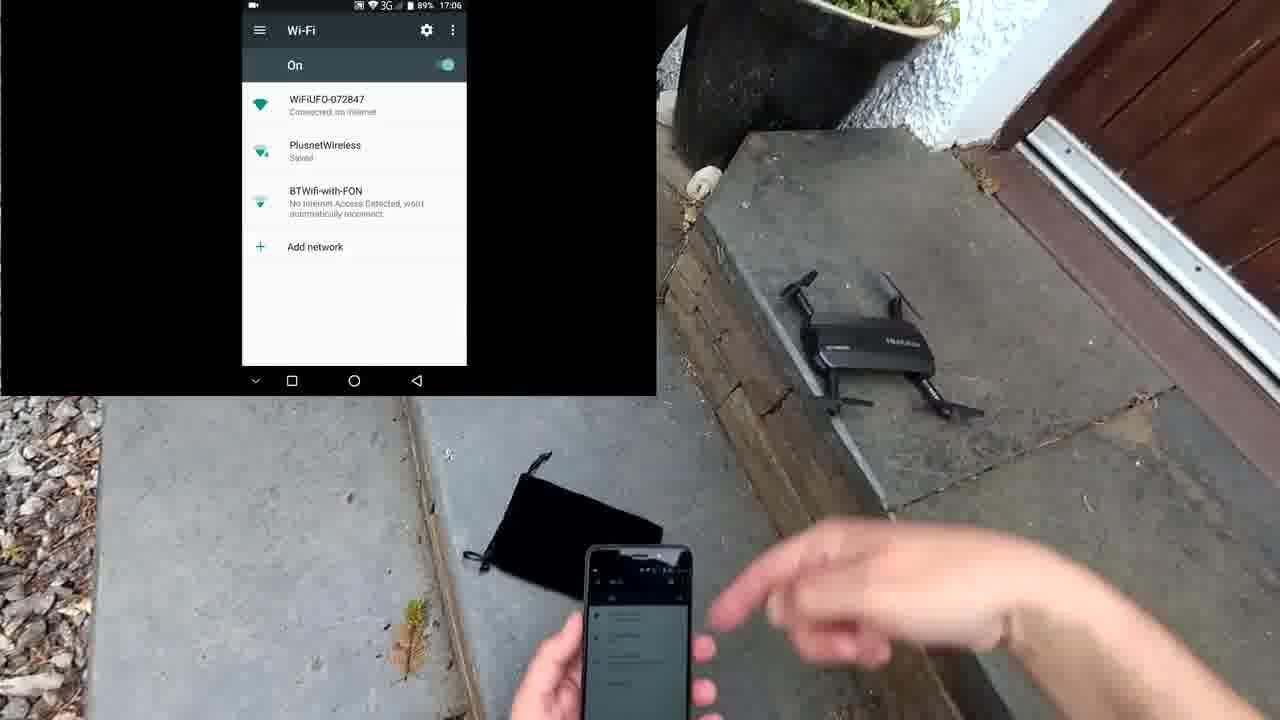drone: (767, 254, 976, 455)
